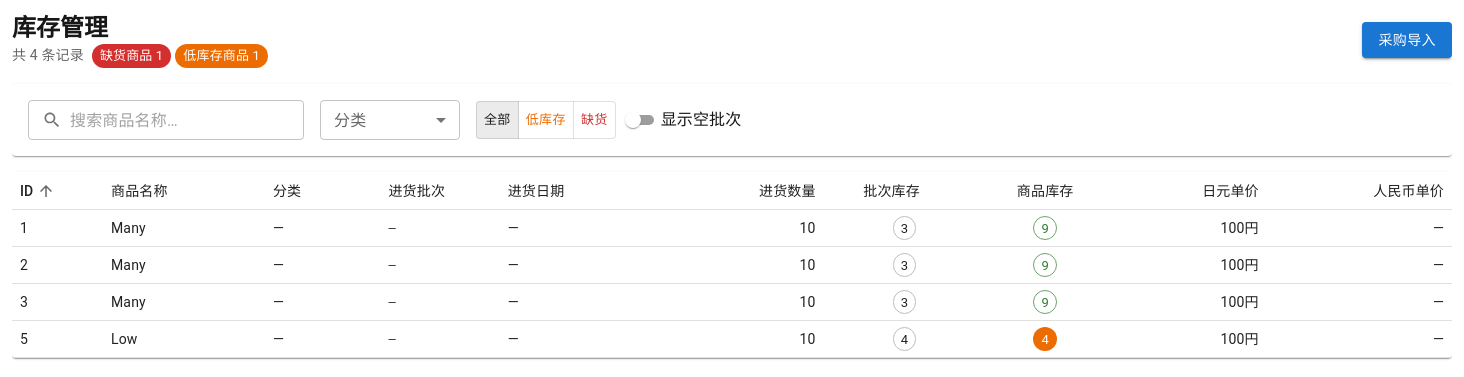
Test case: InventoryPage › filters 低库存 and 缺货 by the product total
The image size is (1464, 377).
Expected: the text "Low" is shown, x1=103 y1=321 x2=265 y2=358
Click the button "低库存".
click(546, 120)  # box x1=518 y1=101 x2=574 y2=139
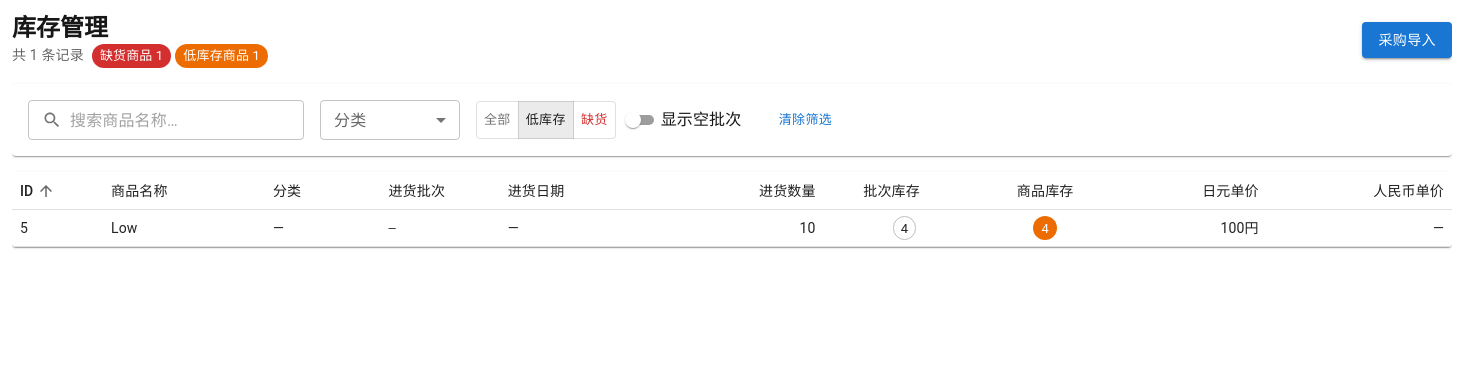
Click the button "缺货".
click(594, 120)  # box x1=573 y1=101 x2=616 y2=139
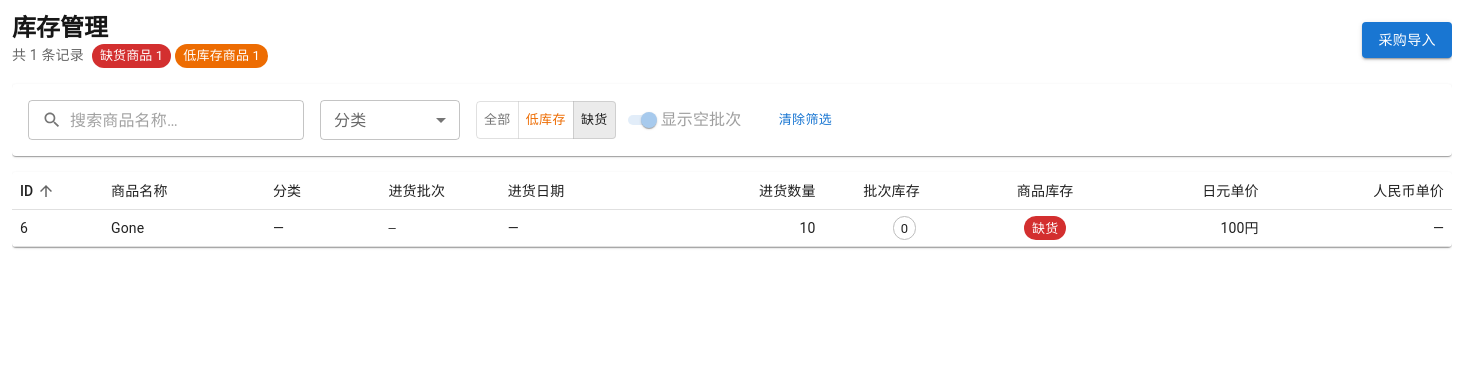
Expected: the switch labelled "显示空批次" is checked, x1=621 y1=108 x2=741 y2=132
